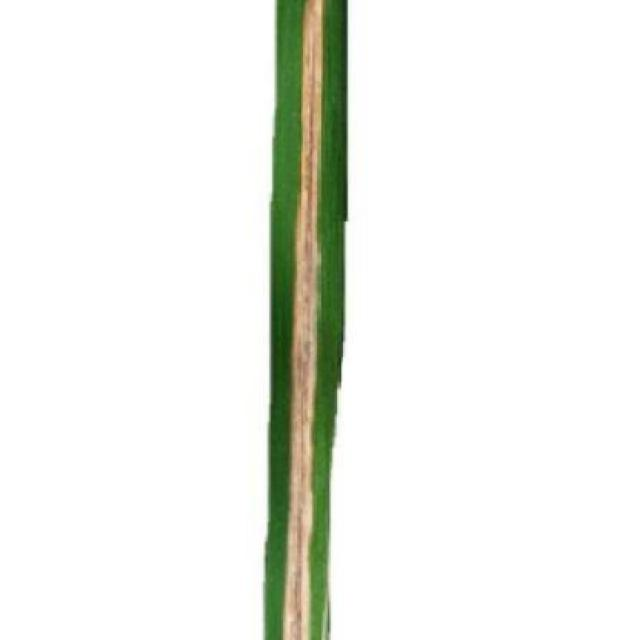Brown_Spot: (258, 0, 354, 640)
